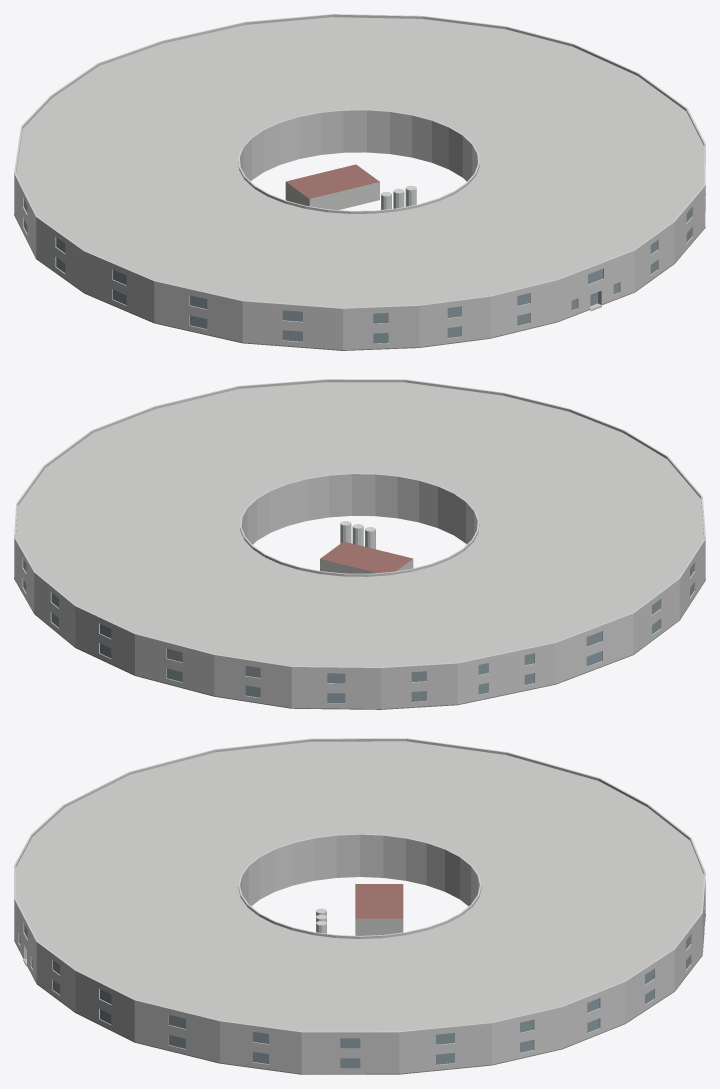
3 renders of one model, top to bottom at view 1: azimuth 30°, elevation 25°; view 2: azimuth 150°, elevation 25°; view 3: azimuth 270°, elevation 25°, orthographic.
Visible parts, largest first — view 1: osm191380905__roof, osm191380905__wall, osm191380905__parapet, osm191380905__trim, osm191380905__glass, osm191380905__courtyardRoof, osm191380905__courtyardWall, osm191380905__base, osm191380905__courtyardTank; view 2: osm191380905__roof, osm191380905__wall, osm191380905__parapet, osm191380905__trim, osm191380905__glass, osm191380905__courtyardRoof, osm191380905__base, osm191380905__courtyardTank, osm191380905__courtyardWall; view 3: osm191380905__roof, osm191380905__wall, osm191380905__parapet, osm191380905__trim, osm191380905__glass, osm191380905__courtyardRoof, osm191380905__base, osm191380905__courtyardWall.
Part boxes in pixels (x1,y1,x2,y2): osm191380905__roof: (16, 17, 704, 307); osm191380905__wall: (14, 112, 705, 350); osm191380905__parapet: (14, 14, 705, 310); osm191380905__trim: (14, 14, 705, 308); osm191380905__glass: (24, 199, 691, 343); osm191380905__courtyardRoof: (286, 164, 379, 198); osm191380905__courtyardWall: (285, 182, 379, 209); osm191380905__base: (14, 185, 705, 350); osm191380905__courtyardTank: (381, 185, 416, 209); osm191380905__roof: (16, 382, 703, 667); osm191380905__wall: (14, 476, 705, 708); osm191380905__parapet: (14, 380, 705, 670); osm191380905__trim: (14, 379, 705, 668); osm191380905__glass: (23, 559, 694, 703); osm191380905__courtyardRoof: (320, 541, 412, 572); osm191380905__base: (14, 577, 705, 709); osm191380905__courtyardTank: (340, 521, 375, 549); osm191380905__courtyardWall: (320, 559, 413, 573); osm191380905__roof: (15, 741, 703, 1031); osm191380905__wall: (14, 837, 705, 1073); osm191380905__parapet: (14, 739, 704, 1034); osm191380905__trim: (14, 738, 705, 1032); osm191380905__glass: (19, 924, 690, 1068); osm191380905__courtyardRoof: (355, 884, 403, 918); osm191380905__base: (14, 907, 705, 1074); osm191380905__courtyardWall: (355, 918, 403, 935).
Bounding box in the file's own units: 145 × 10.15 × 144.
12 materials, 1 textured.
